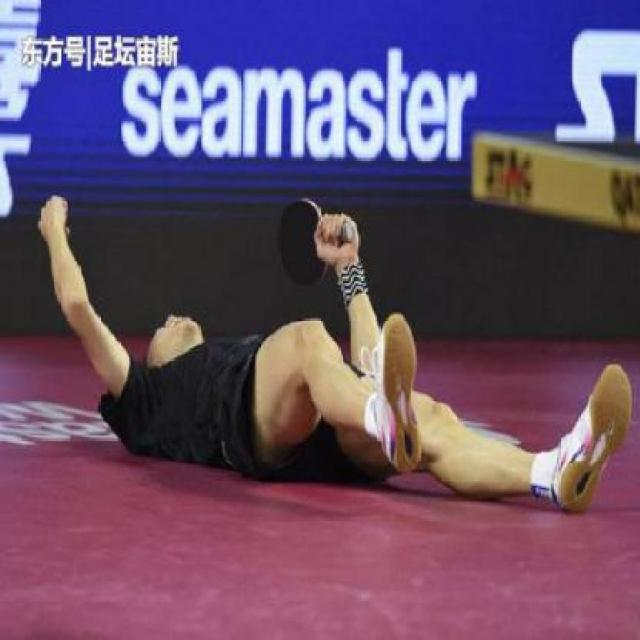fall: (11, 178, 634, 510)
